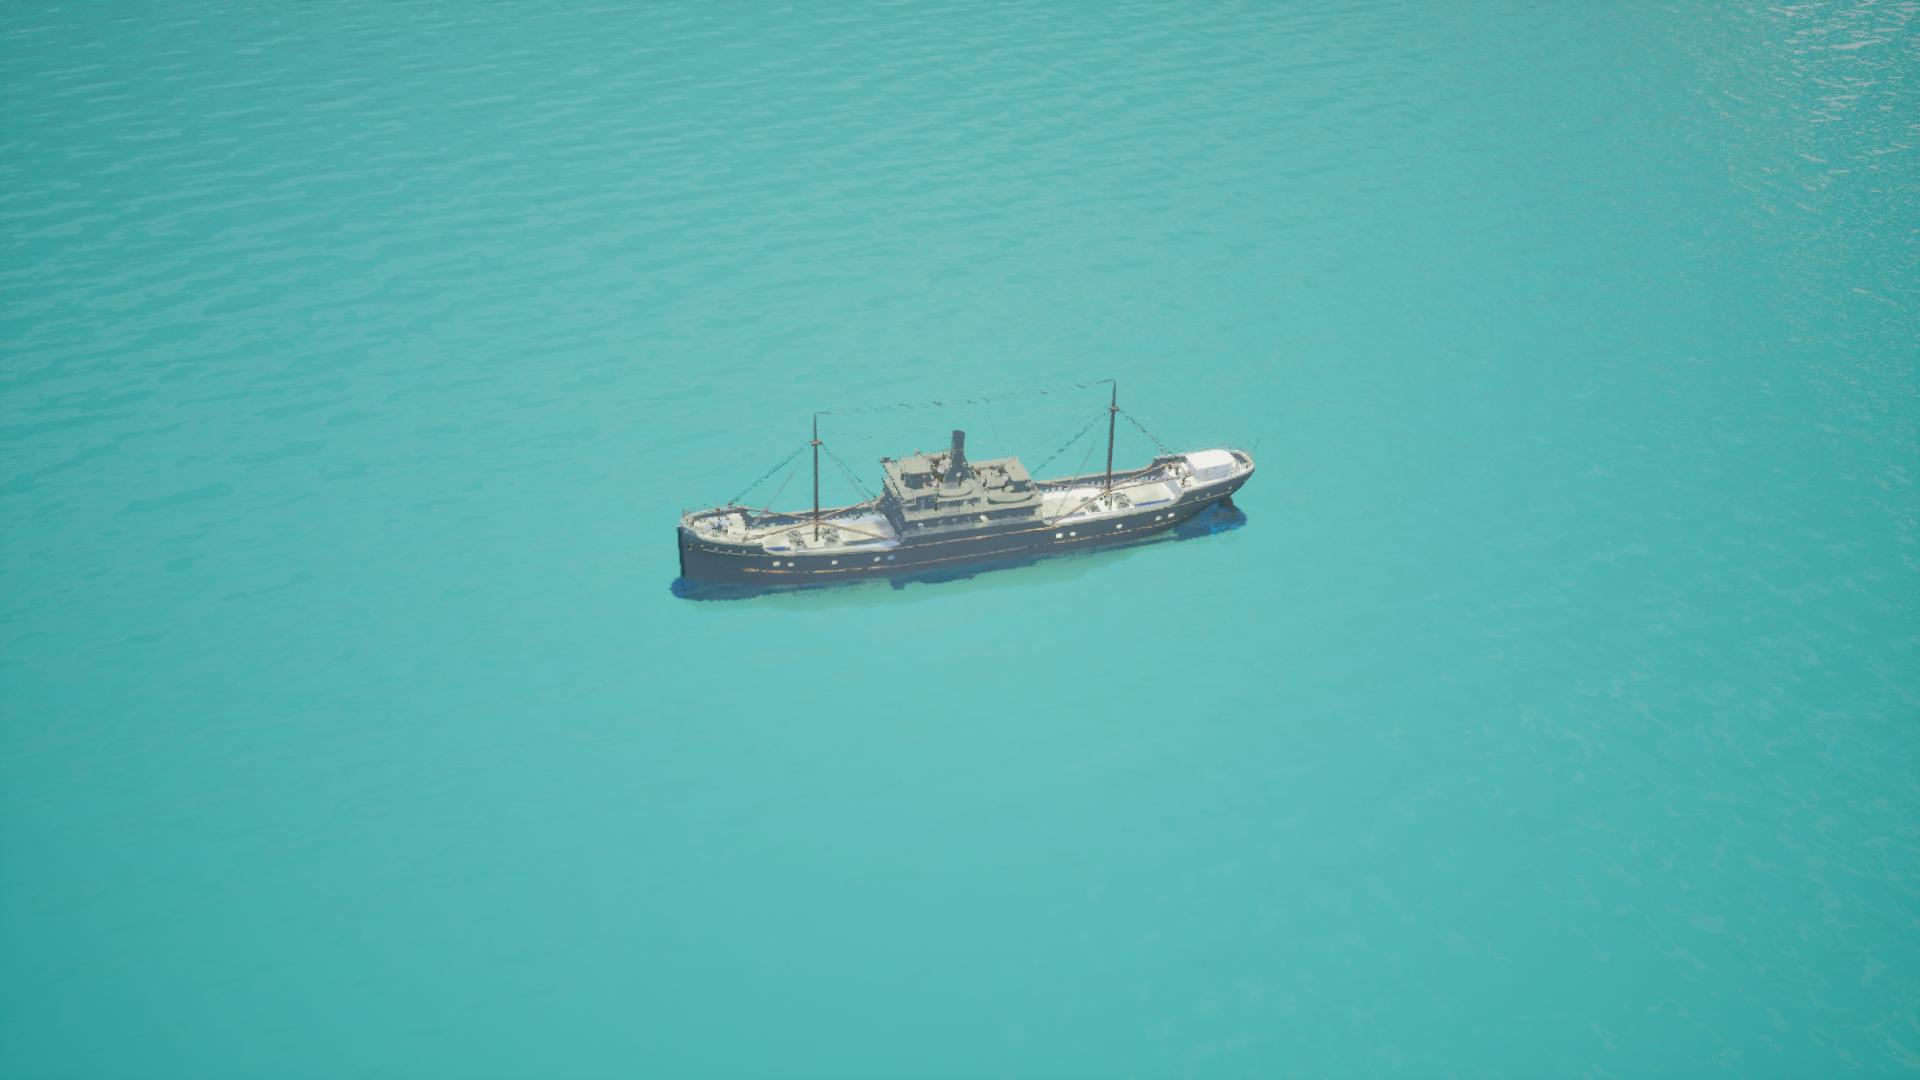Fishing Boat: (682, 386, 1253, 599)
